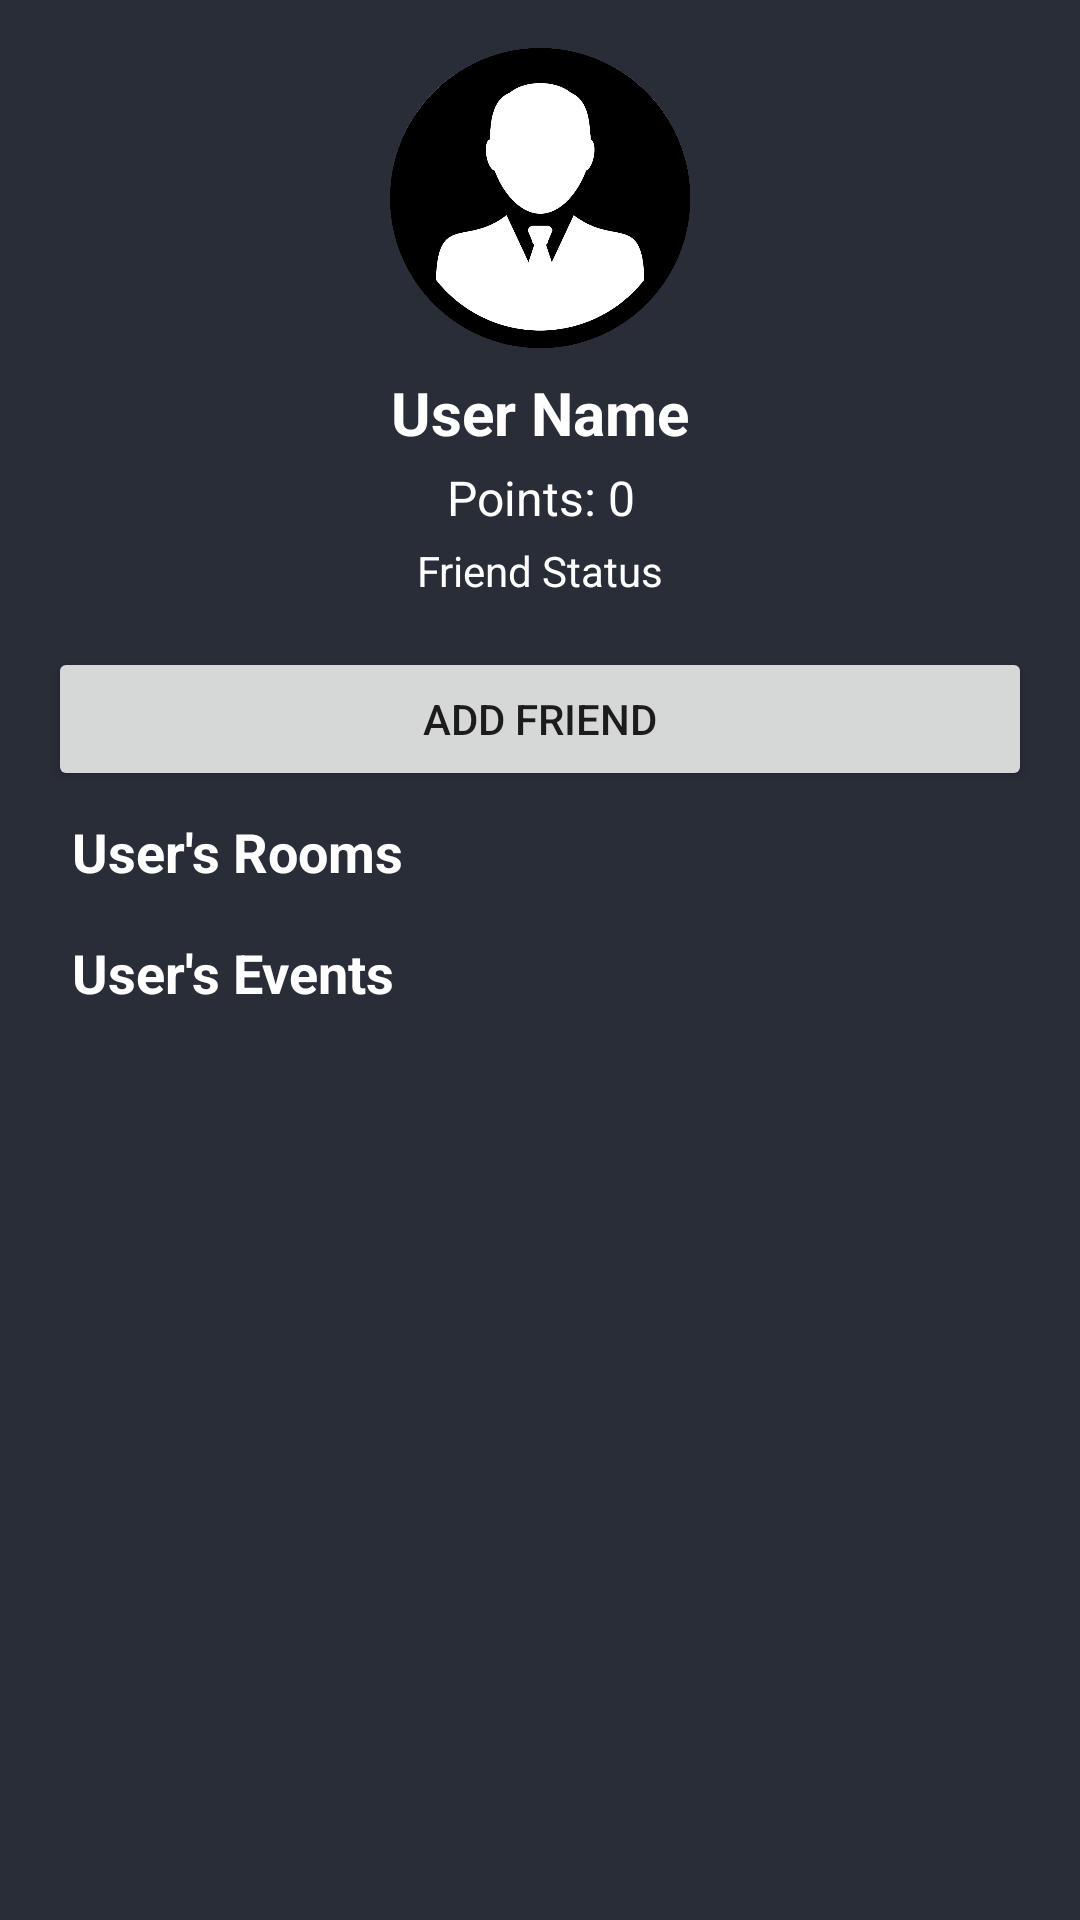

Icon click points for this 1080px×1920px phone screenshot, format point (x, y):
profile: point (540, 198)
